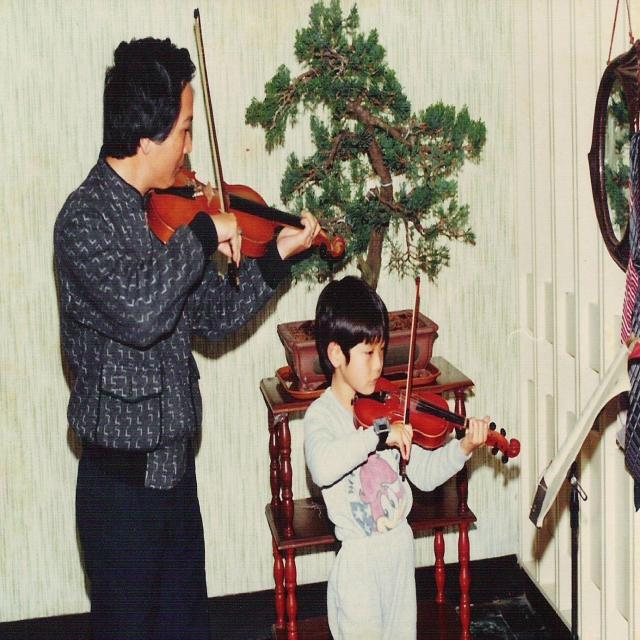violin: (143, 161, 346, 263), (353, 373, 522, 454)
